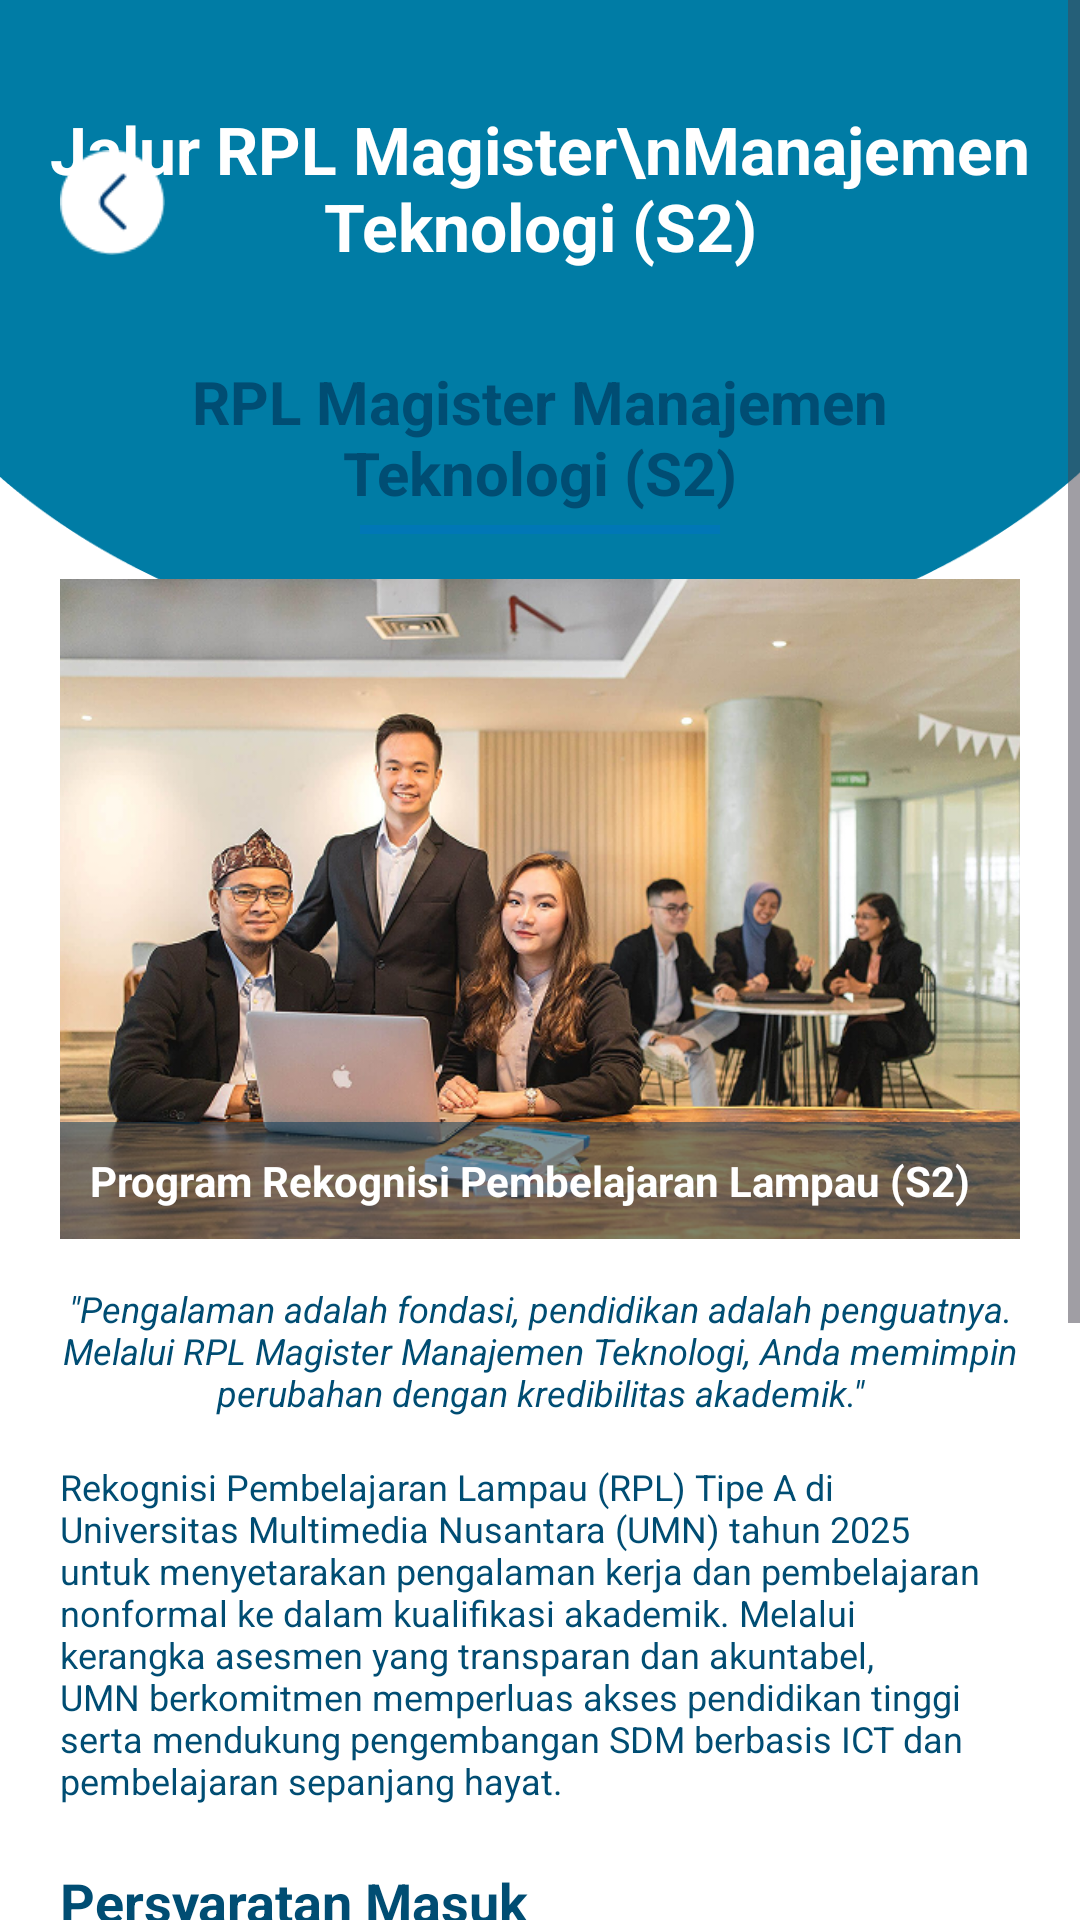

Icon click points for this 1080 x 1920 phone screenshot, format point (x, y):
back: point (112, 202)
